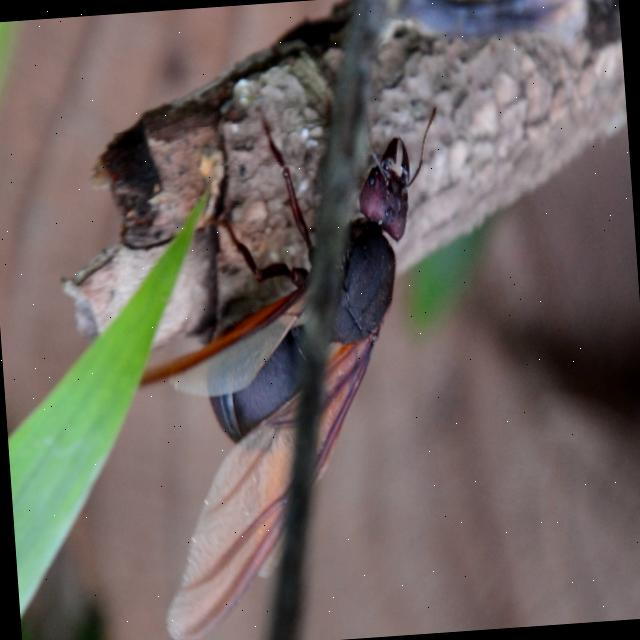Alive-Female-Alate: (105, 91, 473, 640)
